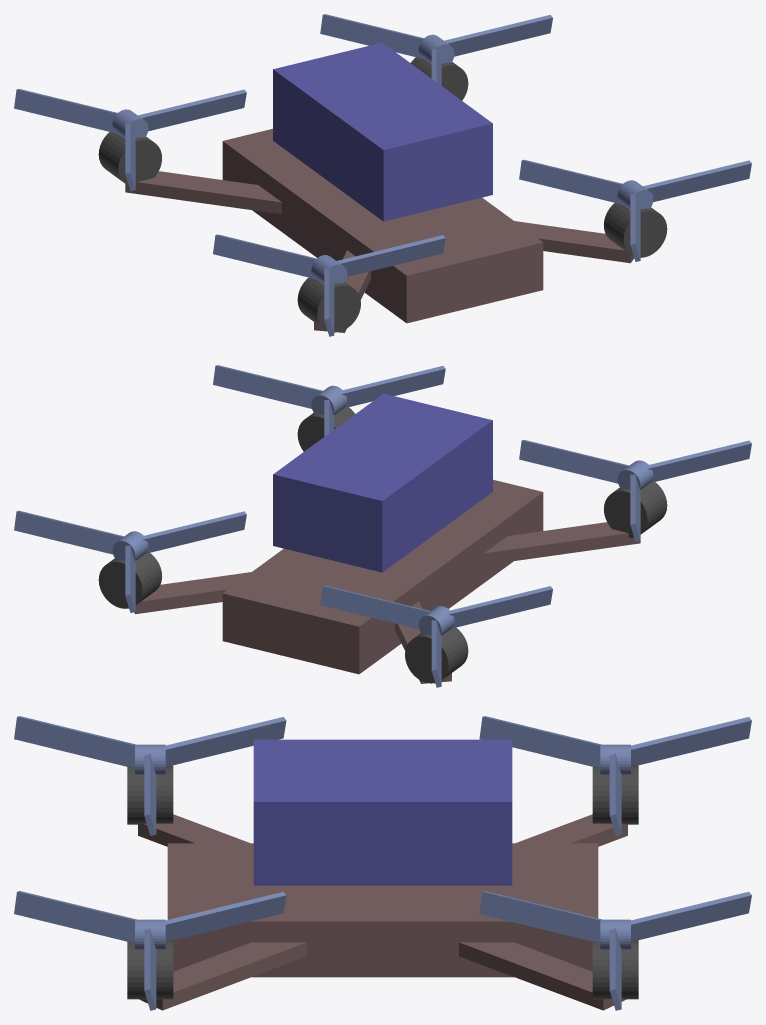
Rendered from PantherMM.glb.
The picture shows the model from 3 angles, top to bottom: view 1: azimuth 30°, elevation 25°; view 2: azimuth 150°, elevation 25°; view 3: azimuth 270°, elevation 25°; orthographic projection. The views are drawn at different scales.
Parts seen in each view (by area): view 1: battery, frame_body, prop_2, prop_0, prop_3, prop_1, arm_3, arm_0, motor_0, motor_2, motor_3, motor_1 (+1 smaller); view 2: battery, frame_body, prop_1, prop_3, prop_2, prop_0, arm_2, arm_1, motor_3, motor_1, motor_2, motor_0; view 3: battery, frame_body, prop_0, prop_1, prop_2, prop_3, arm_1, arm_0, motor_1, motor_0, motor_3, motor_2 (+2 smaller).
Part boxes in pixels (box(x1,y1,x2,y2)): battery: box(273, 42, 492, 221); frame_body: box(222, 128, 543, 323); prop_2: box(213, 234, 445, 336); prop_0: box(519, 159, 751, 261); prop_3: box(14, 89, 246, 191); prop_1: box(320, 14, 552, 85); arm_3: box(125, 171, 281, 214); arm_0: box(514, 221, 634, 263); motor_0: box(603, 203, 667, 257); motor_2: box(297, 277, 360, 332); motor_3: box(98, 132, 161, 186); motor_1: box(411, 57, 468, 100); battery: box(273, 393, 492, 572); frame_body: box(222, 479, 543, 674); prop_1: box(14, 510, 246, 612); prop_3: box(320, 585, 552, 687); prop_2: box(519, 440, 751, 541); prop_0: box(213, 365, 445, 436); arm_2: box(484, 522, 640, 565); arm_1: box(134, 572, 251, 614); motor_3: box(405, 627, 468, 683); motor_1: box(98, 553, 162, 608); motor_2: box(604, 482, 667, 537); motor_0: box(297, 407, 354, 451); battery: box(253, 739, 512, 885); frame_body: box(167, 843, 598, 977); prop_0: box(14, 891, 286, 1010); prop_1: box(479, 891, 751, 1010); prop_2: box(14, 716, 286, 835); prop_3: box(479, 716, 751, 835); arm_1: box(459, 942, 626, 1010); arm_0: box(139, 942, 306, 1010); motor_1: box(592, 940, 638, 999); motor_0: box(127, 940, 173, 999); motor_3: box(592, 765, 638, 824); motor_2: box(127, 765, 173, 824).
Bounding box in the file's own units: 0.2111 × 0.06 × 0.2397.
